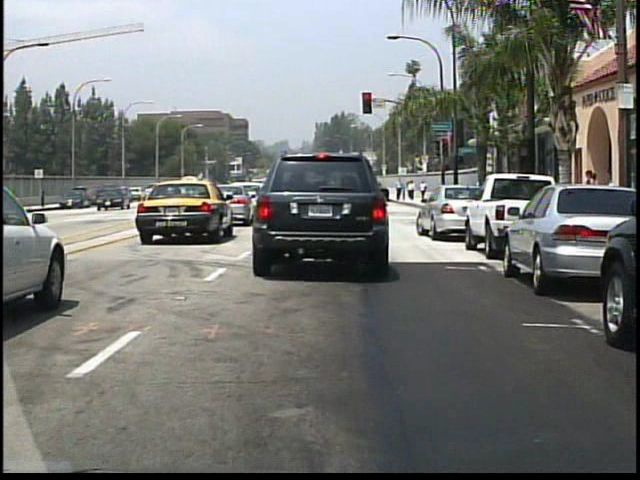person: (581, 166, 602, 226), (419, 178, 428, 202), (397, 176, 405, 199), (408, 178, 416, 201)
